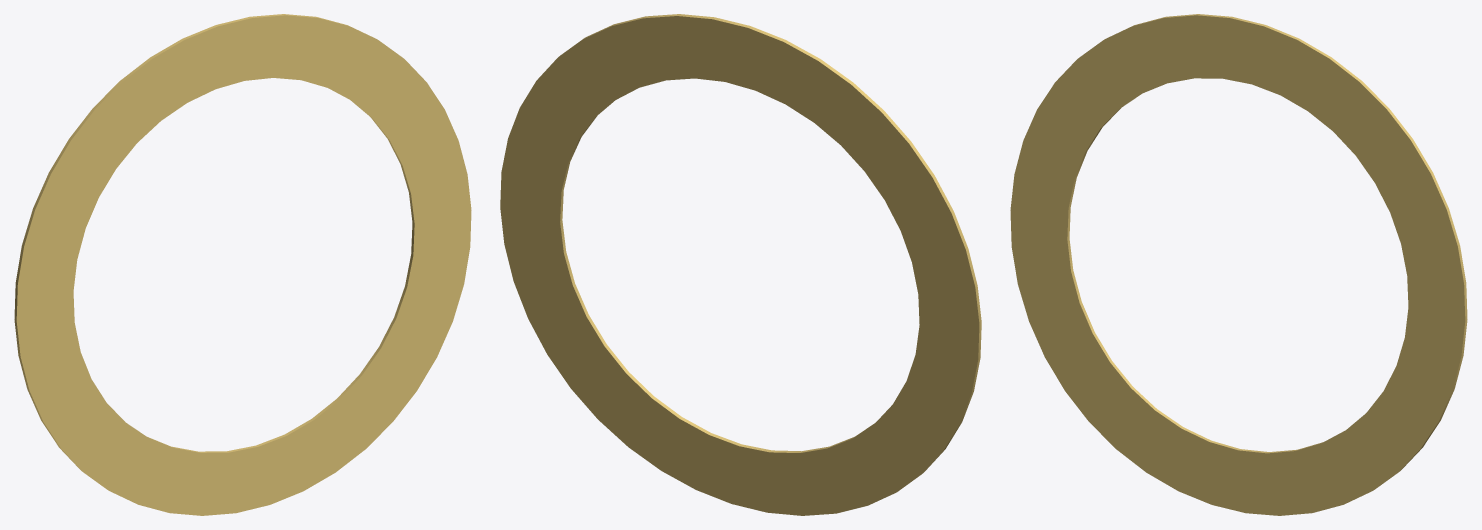
3 views of the same model, side by side, from view 1: azimuth 30°, elevation 25°; view 2: azimuth 150°, elevation 25°; view 3: azimuth 330°, elevation 25° (orthographic). The views are drawn at different scales.
Parts seen in each view (by area): view 1: 0C6E641F3DC18749666DF3C59C03E7384C05AFCA|:|EF01828240D3_4aea; view 2: 0C6E641F3DC18749666DF3C59C03E7384C05AFCA|:|EF01828240D3_4aea; view 3: 0C6E641F3DC18749666DF3C59C03E7384C05AFCA|:|EF01828240D3_4aea.
Boxes of the visible parts, x1,y1,x2,y2 form: 0C6E641F3DC18749666DF3C59C03E7384C05AFCA|:|EF01828240D3_4aea: (14, 14, 471, 515); 0C6E641F3DC18749666DF3C59C03E7384C05AFCA|:|EF01828240D3_4aea: (500, 14, 981, 515); 0C6E641F3DC18749666DF3C59C03E7384C05AFCA|:|EF01828240D3_4aea: (1010, 14, 1467, 515).
Bounding box in the file's own units: 84 × 83.61 × 6.54.
